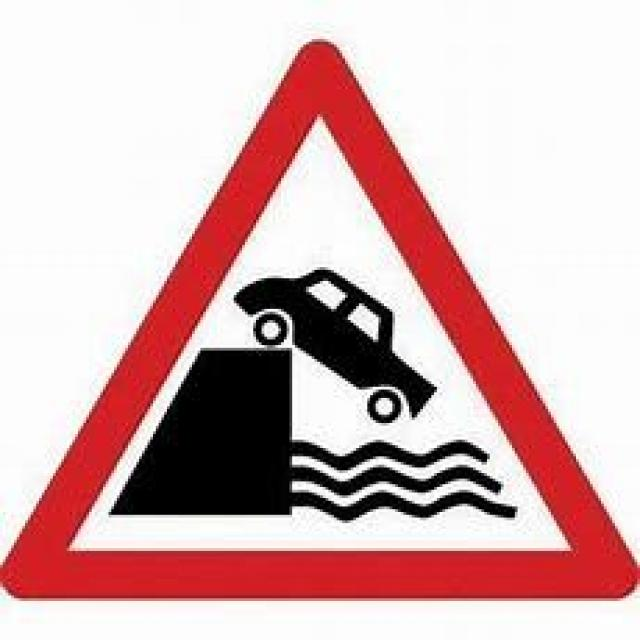QUAY_SIDE_OR_RIVER_BANK: (0, 31, 637, 598)
